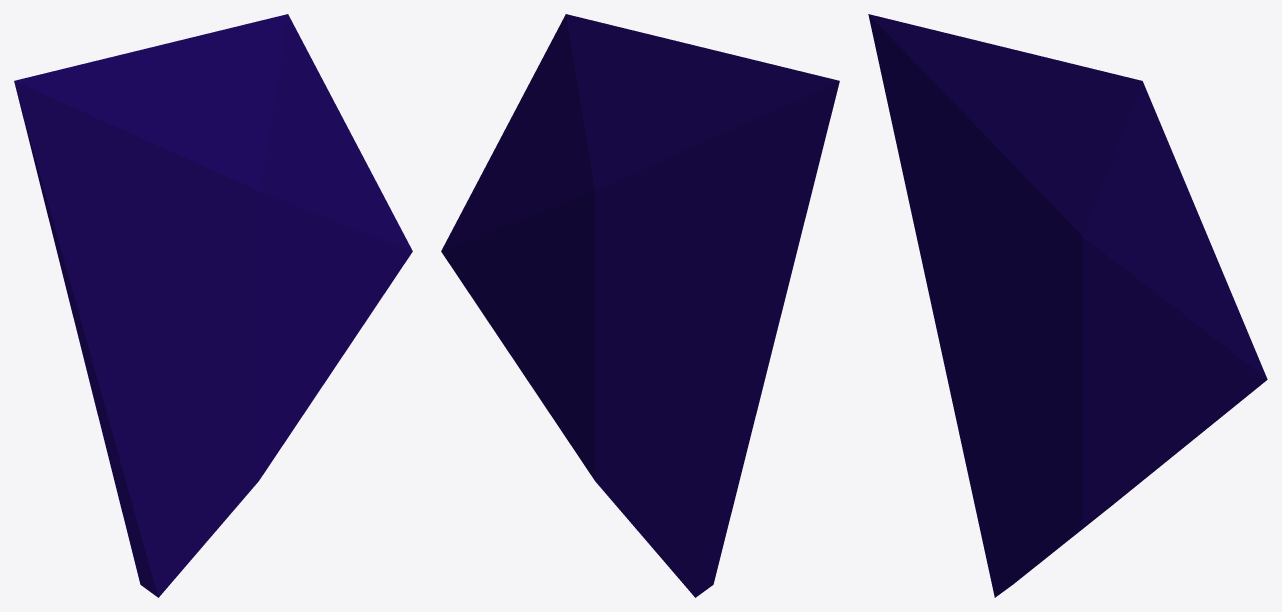
File: fin.dae
3 renders of one model, left to right at view 1: azimuth 30°, elevation 25°; view 2: azimuth 150°, elevation 25°; view 3: azimuth 330°, elevation 25°, orthographic.
Visible parts, largest first — view 1: fins_vertical.002; view 2: fins_vertical.002; view 3: fins_vertical.002.
Part boxes in pixels (x1=…): fins_vertical.002: x1=14, y1=14, x2=412, y2=597; fins_vertical.002: x1=441, y1=14, x2=839, y2=597; fins_vertical.002: x1=868, y1=14, x2=1267, y2=597.
Size of the model in its own units: 0.2253 by 0.03 by 0.2934.
